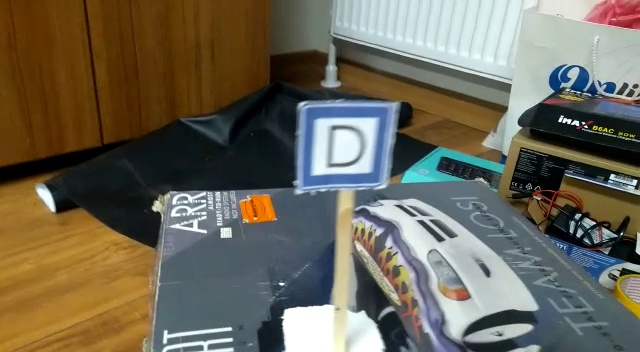durak: (295, 104, 388, 189)
